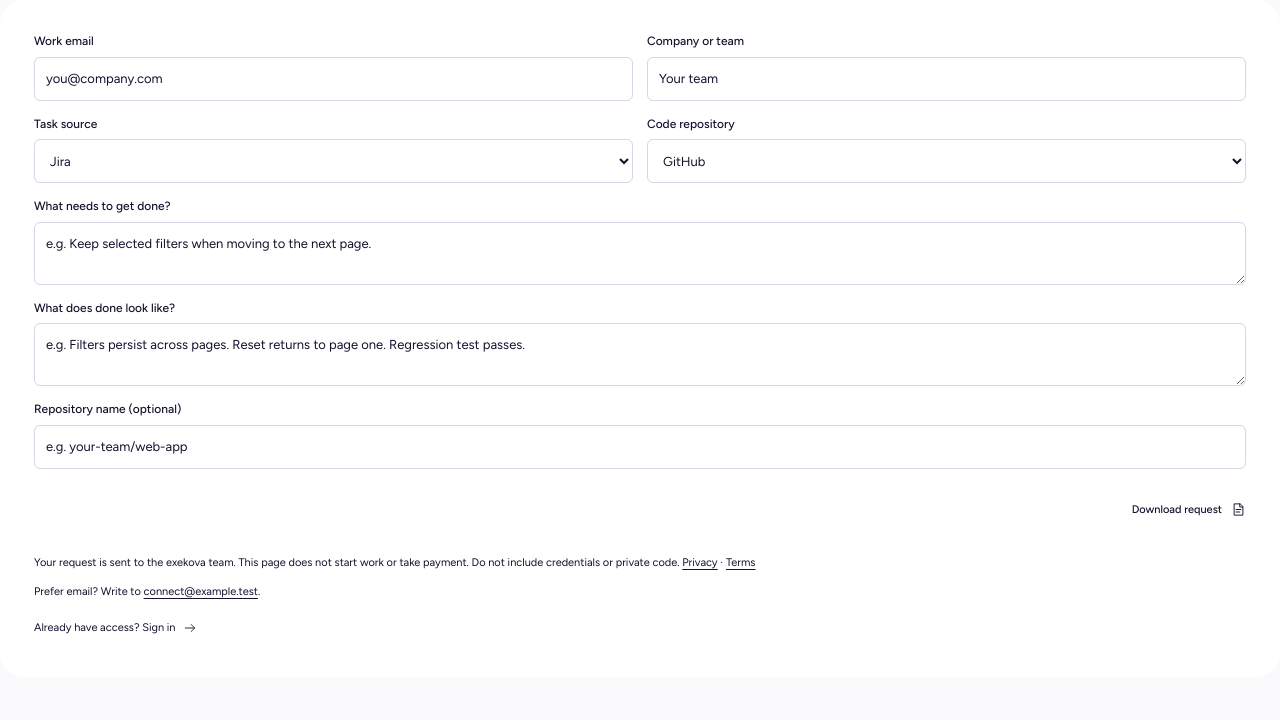
Test: qualified requests › delivers planned integration interest through Web3Forms
The image size is (1280, 720).
Type "lead@example.test" into the field labelled "Work email" at (334, 79), box [34,57,633,101]
Type "Example team" into the field labelled "Company or team" at (946, 79), box [647,57,1246,101]
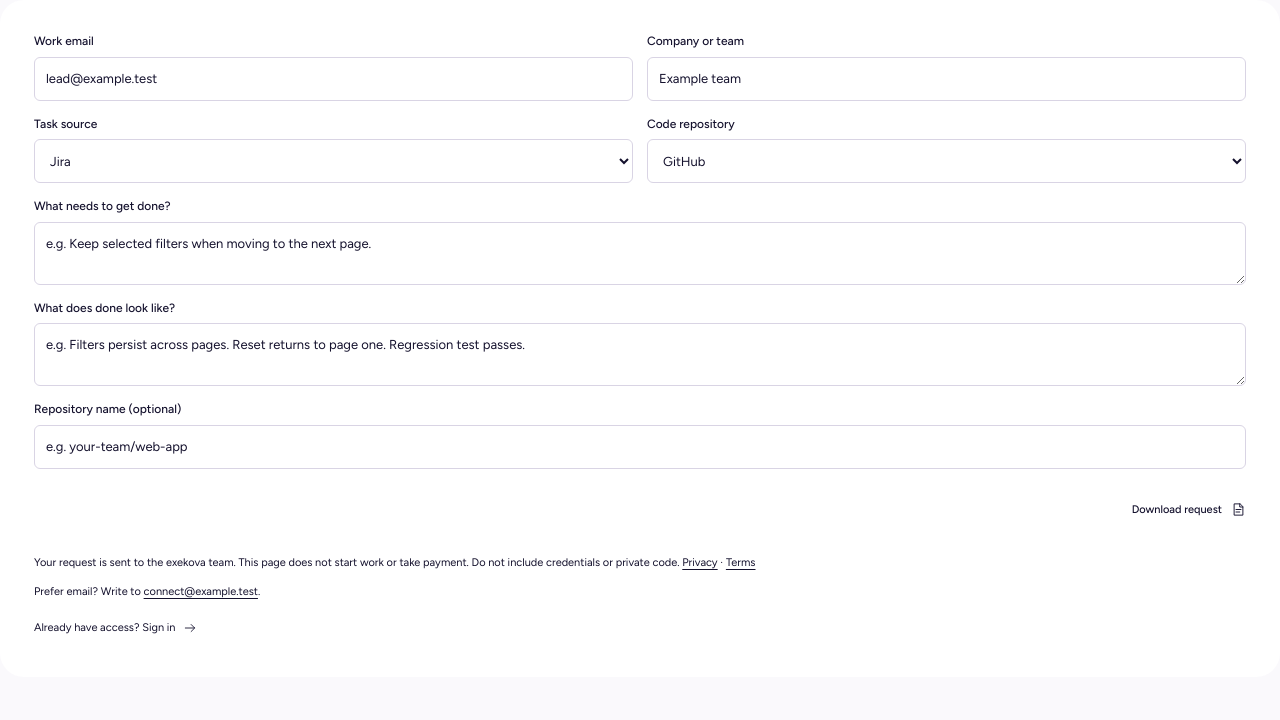
Type "Keep the selected filters." into the text box labelled "What needs to get done?" at (640, 253), box [34,222,1246,285]
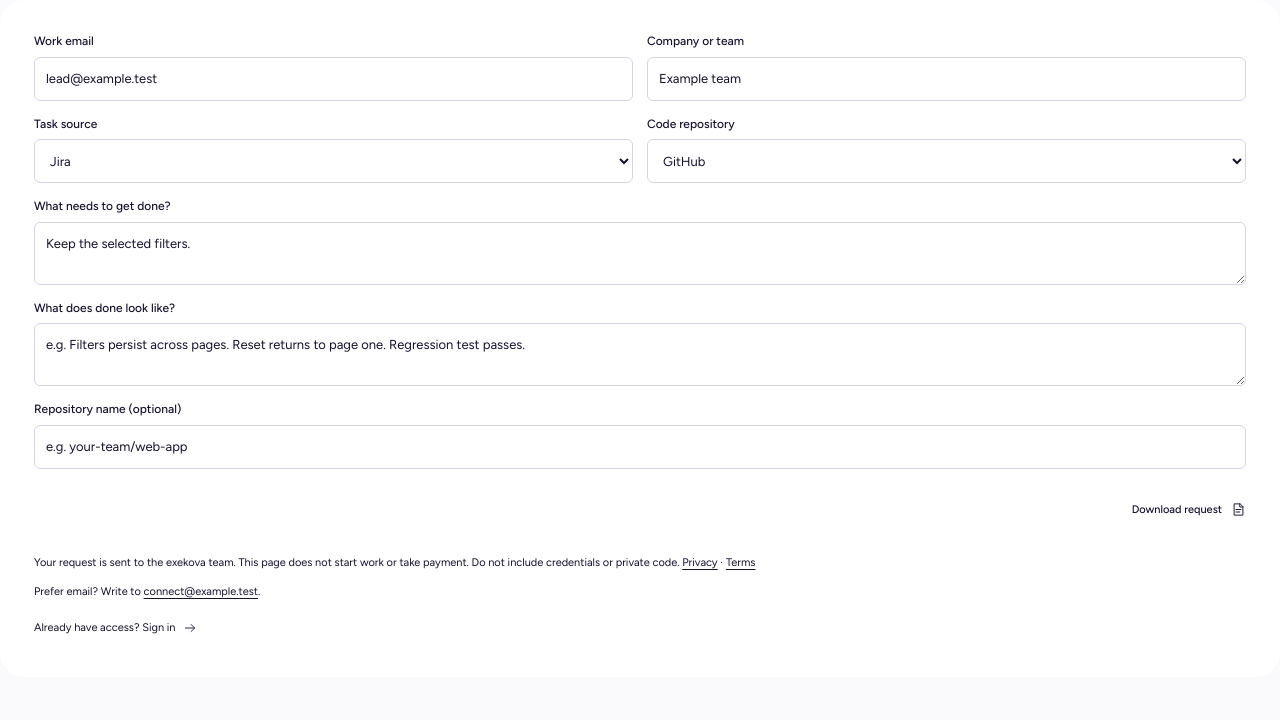
Replace the text in the text box labelled "What does done look like?" with "Filters persist. Add regression coverage." at (640, 355), box [34,323,1246,386]
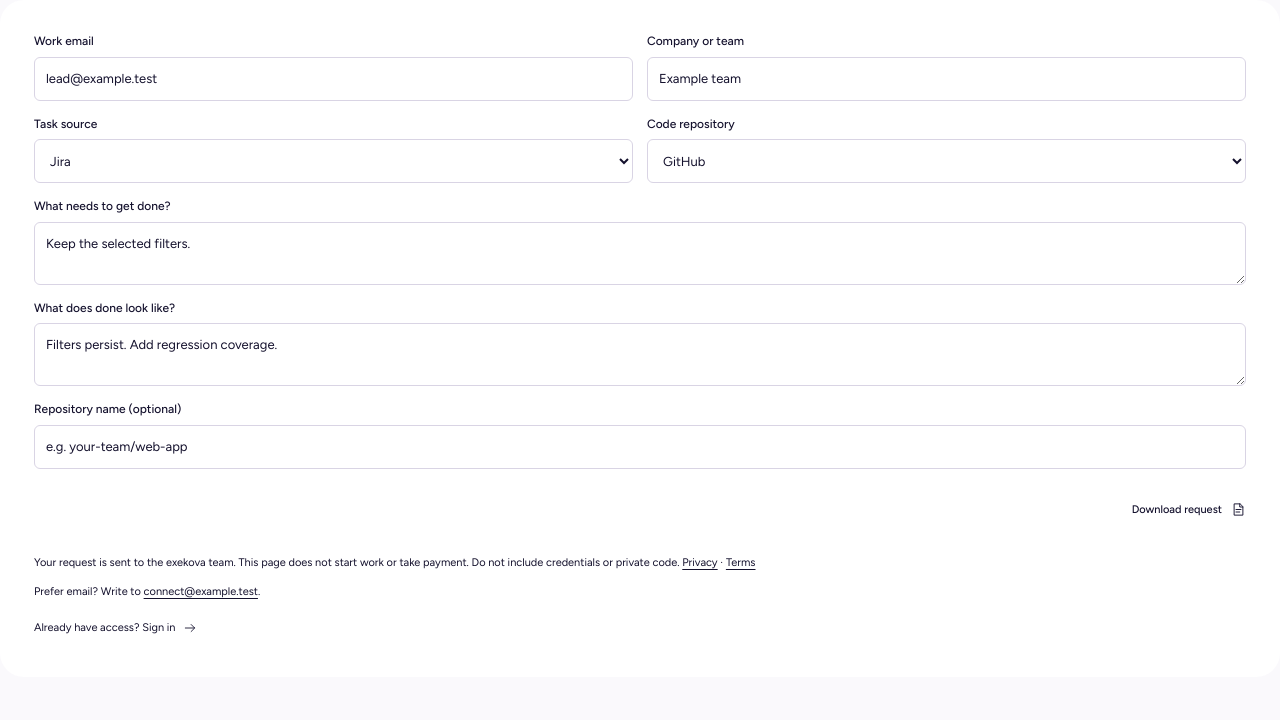
Type "example/web" into the field labelled "Repository name (optional)" at (640, 447), box [34,425,1246,469]
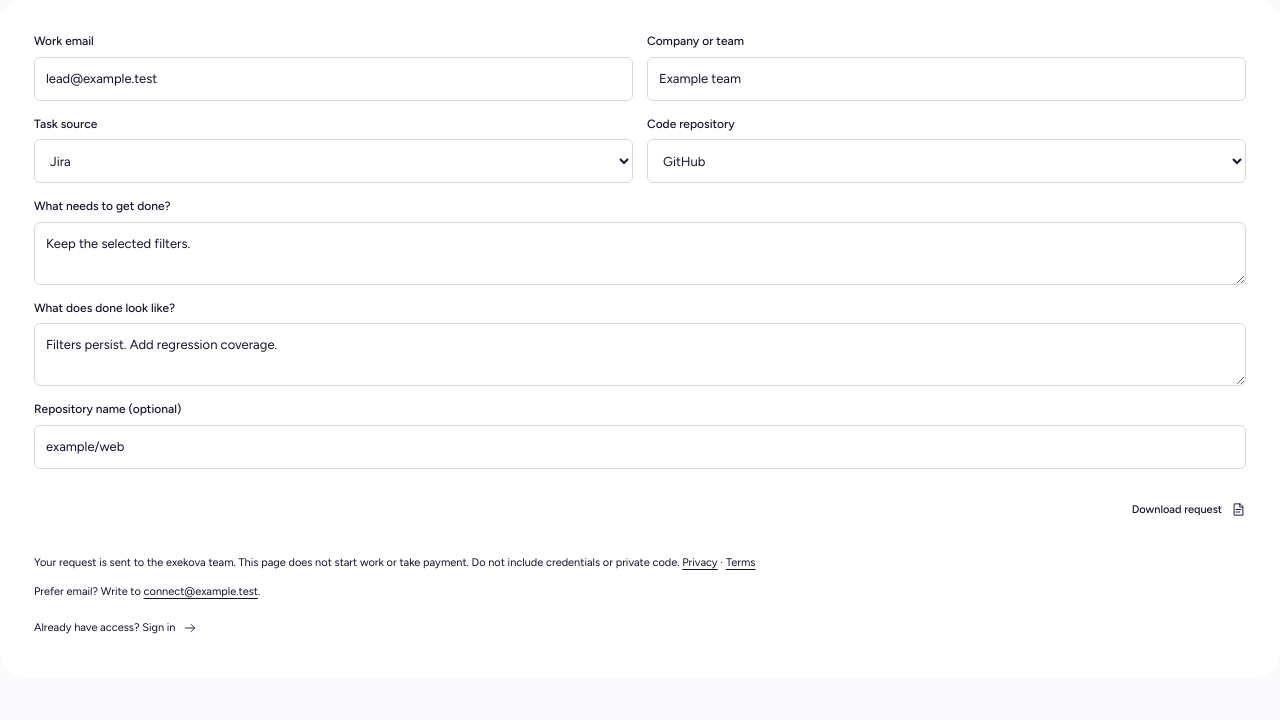
Select "Linear" in the dropdown labelled "Task source" at (334, 161), box [34,139,633,183]
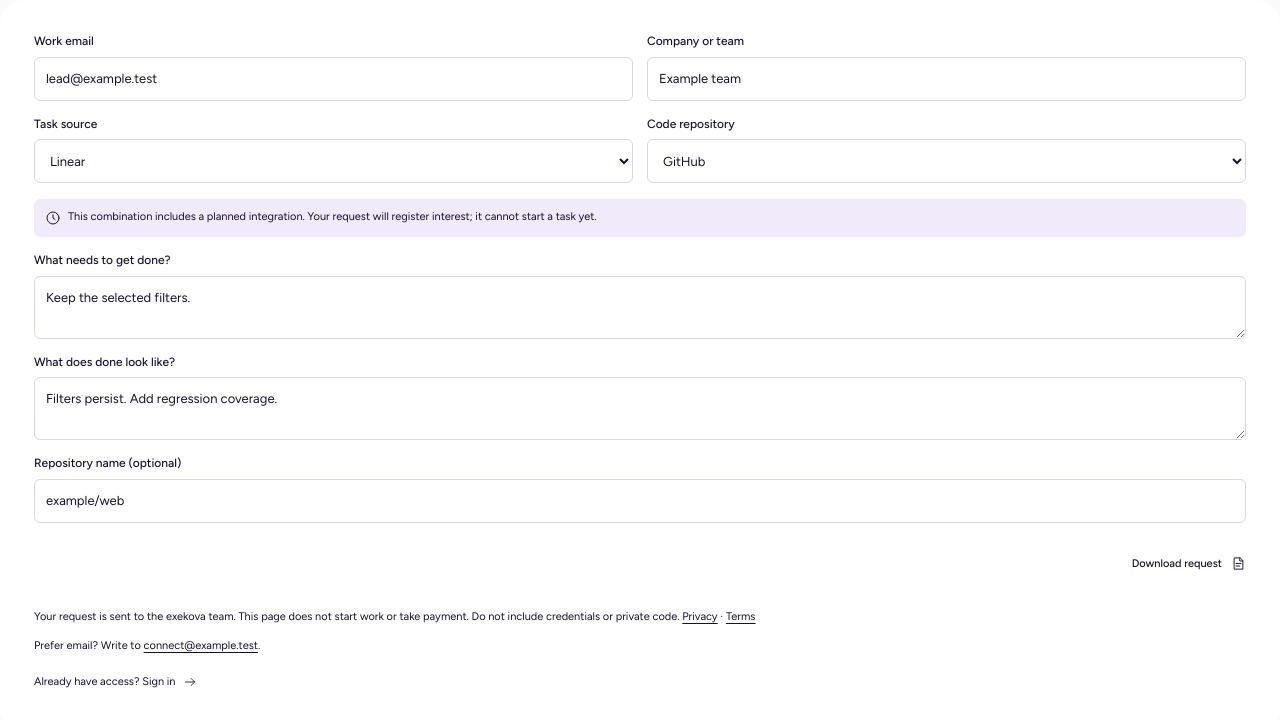
Submit the form named "Access request"
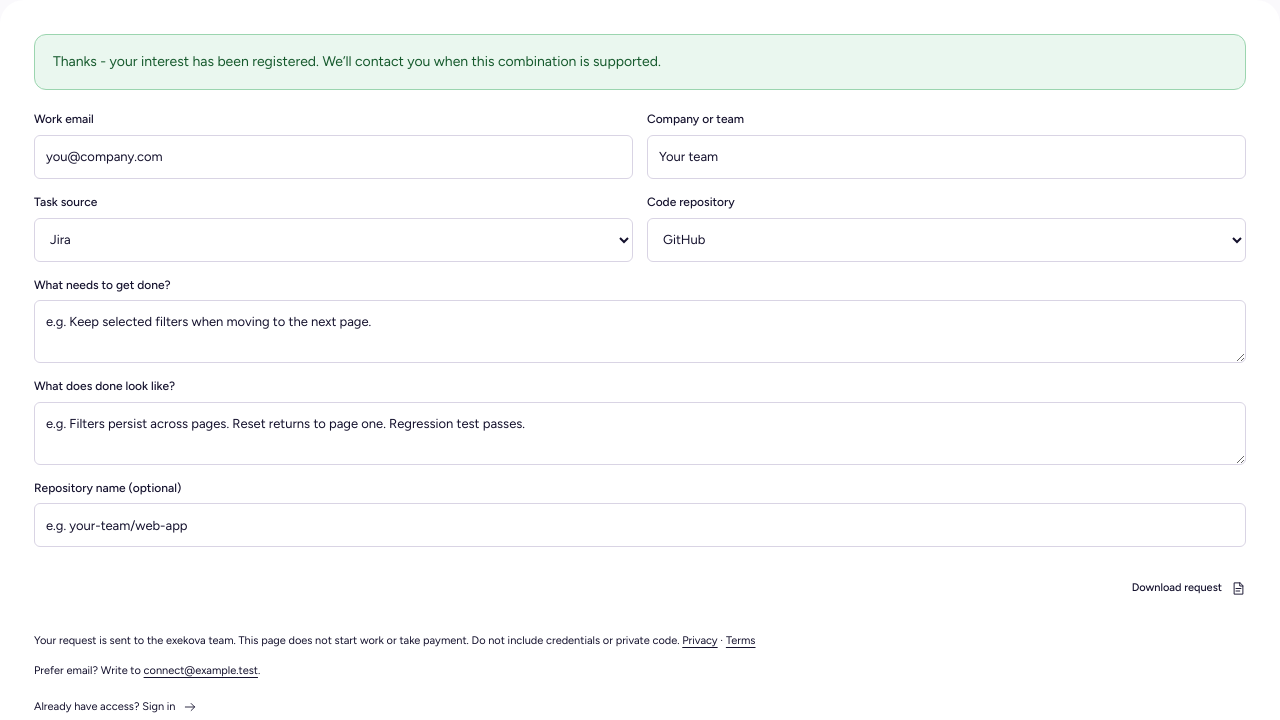
Expected: the text "interest has been registered" is shown, [53,53,661,70]
